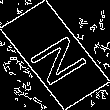N_NE: (19, 24, 91, 86)
